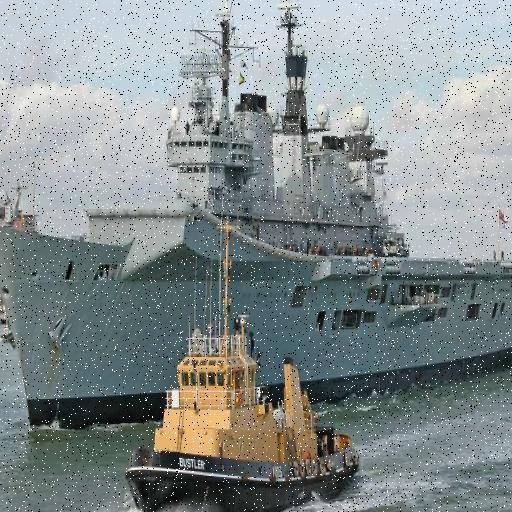Portanaves: (1, 1, 512, 442)
